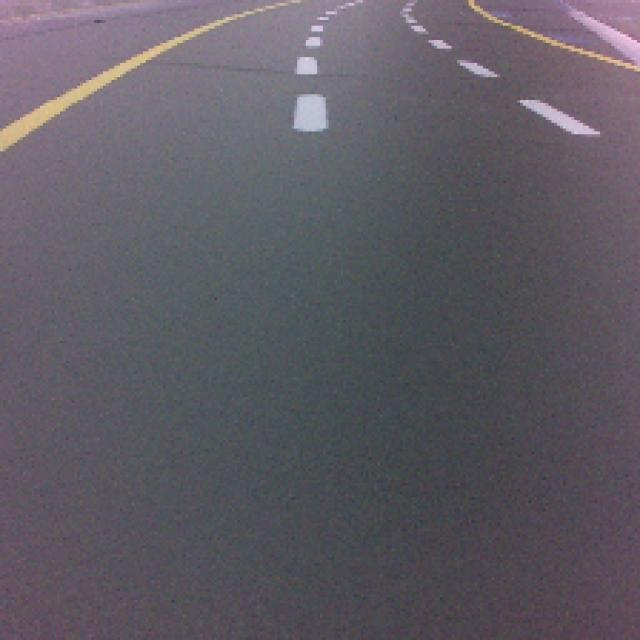Road: (0, 415, 640, 636)
